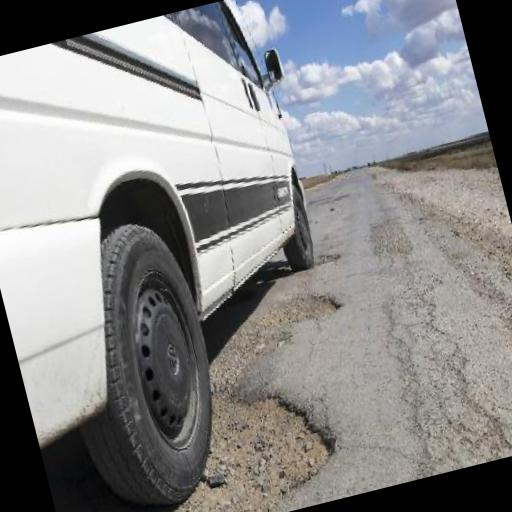pothole: (162, 360, 351, 512), (254, 282, 344, 336), (308, 246, 342, 268)
